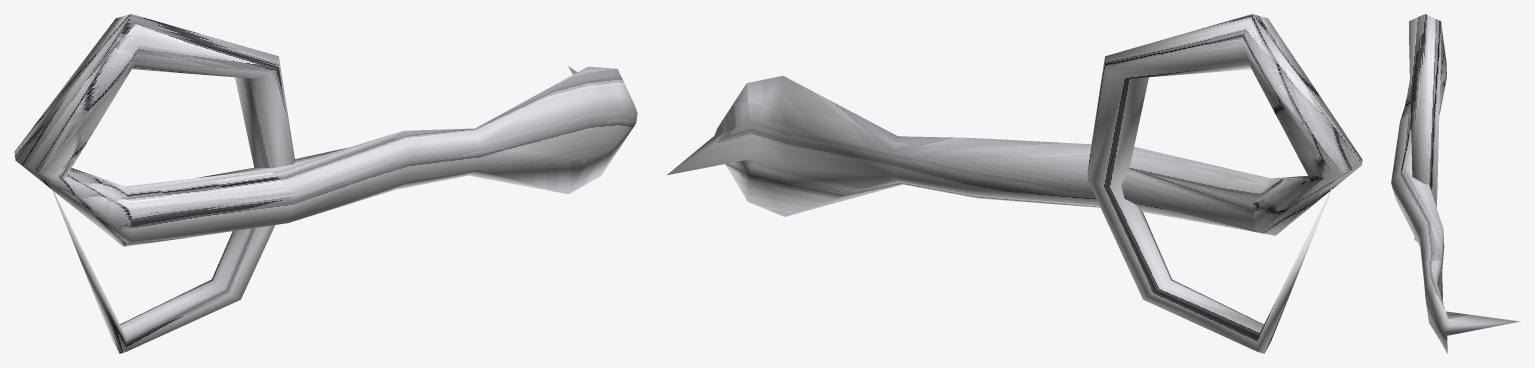
The model's file is snake_000094.obj.
3 renders of one model, left to right at view 1: azimuth 30°, elevation 25°; view 2: azimuth 150°, elevation 25°; view 3: azimuth 270°, elevation 25°, orthographic. The views are drawn at different scales.
Visible parts, largest first — view 1: Cylinder; view 2: Cylinder; view 3: Cylinder.
Part boxes in pixels (left/top/right/bottom): Cylinder: left=14, top=14, right=637, bottom=353; Cylinder: left=667, top=14, right=1362, bottom=353; Cylinder: left=1391, top=14, right=1520, bottom=353.
Bounding box in the file's own units: 4.78 × 2.44 × 1.33.
